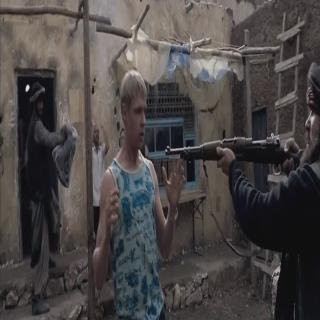gun: (162, 126, 305, 187)
